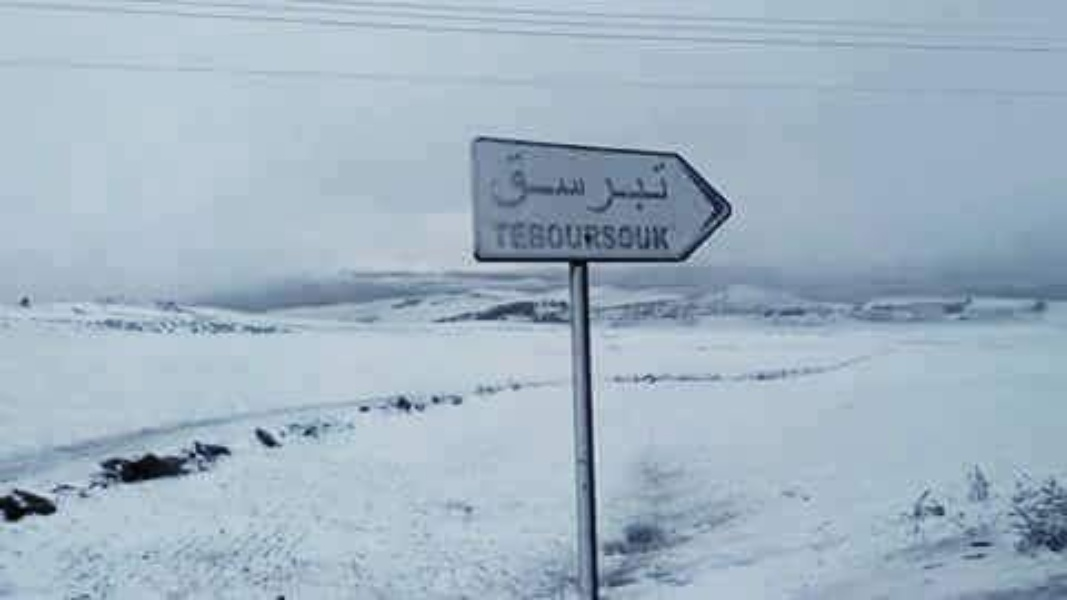text: (497, 147, 512, 216), (513, 147, 528, 216), (529, 147, 544, 216), (545, 147, 560, 216), (561, 147, 576, 216), (577, 147, 592, 216), (593, 147, 608, 216), (609, 147, 624, 216), (625, 147, 640, 216), (641, 147, 656, 216), (483, 147, 496, 216), (657, 147, 670, 216), (497, 223, 512, 254), (513, 223, 528, 254), (529, 223, 544, 254), (545, 223, 560, 254), (561, 223, 576, 254), (577, 223, 592, 254), (593, 223, 608, 254), (609, 223, 624, 254), (625, 223, 640, 254), (641, 223, 656, 254), (657, 223, 670, 254), (492, 223, 496, 254)
